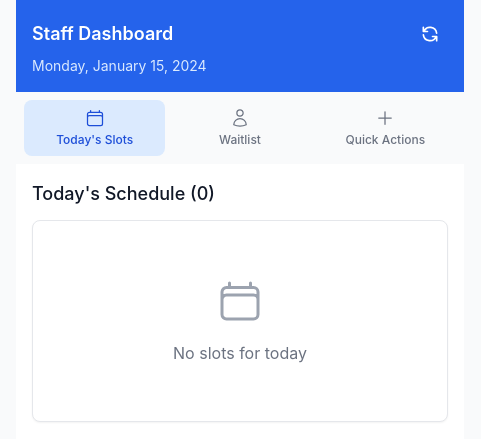
Test: MobileStaffApp › handles empty states correctly
Expected: the text "No slots for today" is shown, [173, 343, 307, 363]
Switch to waitlist tab
Click the button "Waitlist".
click(240, 128)  # box [169, 100, 311, 156]
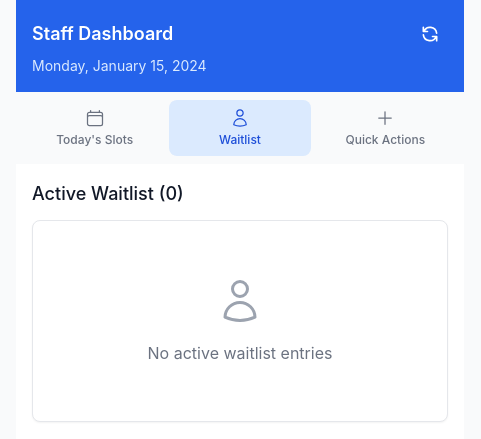
Expected: the text "No active waitlist entries" is shown, [148, 343, 332, 363]
